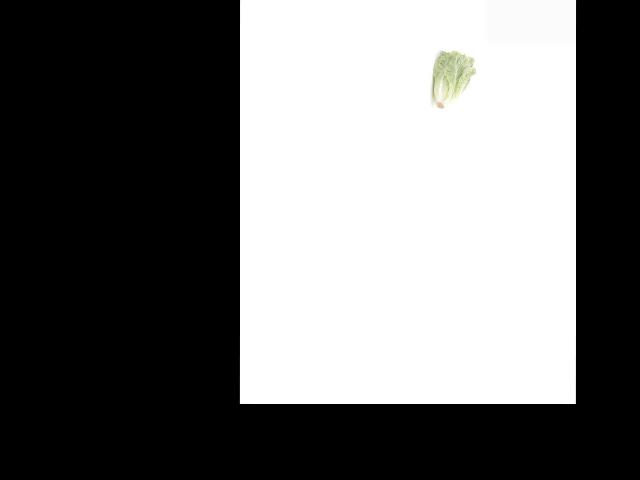lettuce: (431, 51, 476, 111)
